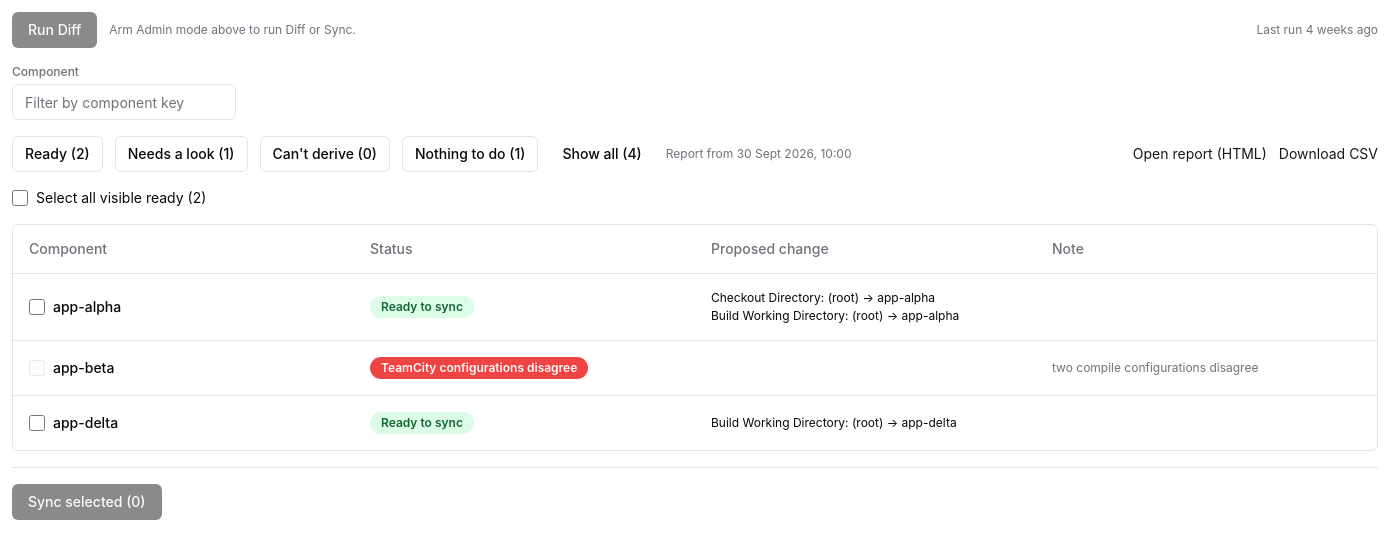
Scenario: TeamCityCheckoutLayoutPanel — result table › filters rows by component text (kept from the previous design)
Type "alpha" into the field labelled "Component" at (124, 102), box [12, 84, 236, 120]
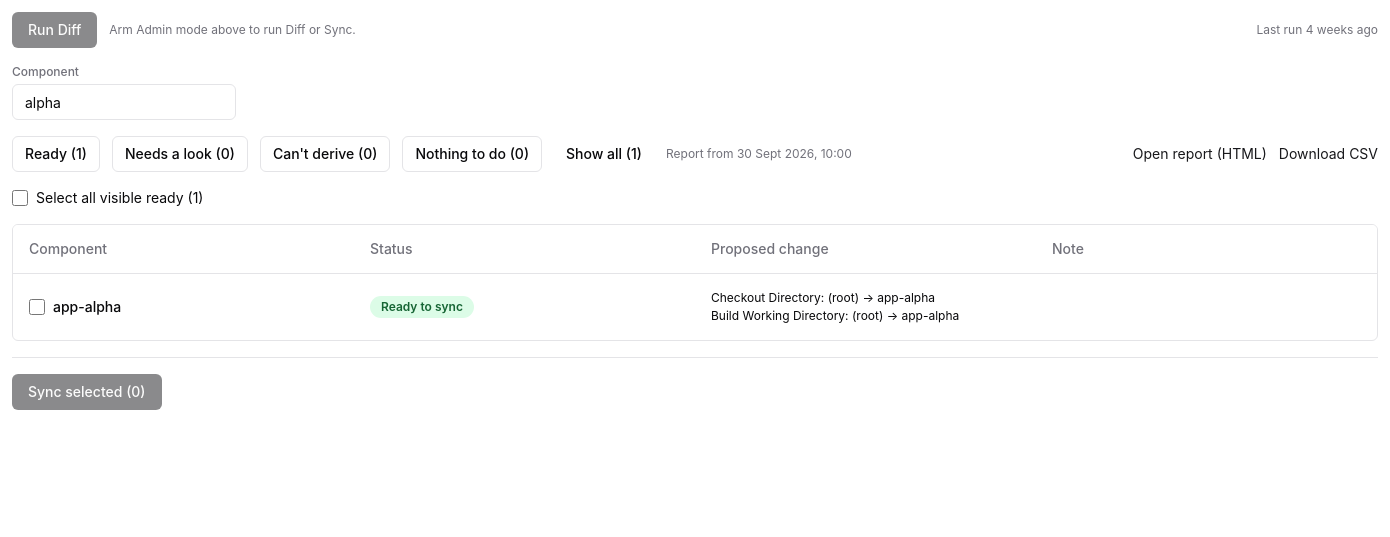
Expected: the text "app-alpha" is shown, [29, 298, 121, 314]
Now the text "app-beta" is gone
